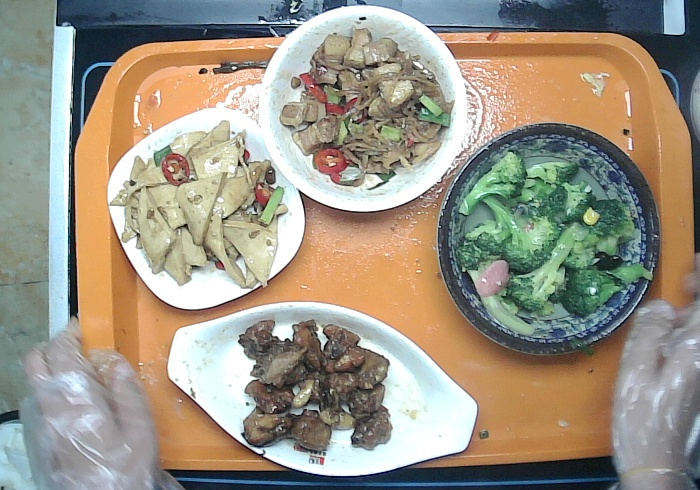ZNLD-Qing_Hua_Wan: (439, 121, 661, 366)
ZNLD-Si_Fang_Wan: (100, 107, 304, 312)
ZNLD-Tang_Wan: (258, 3, 467, 217)
ZNLD-Yu_Pan: (160, 303, 474, 480)
